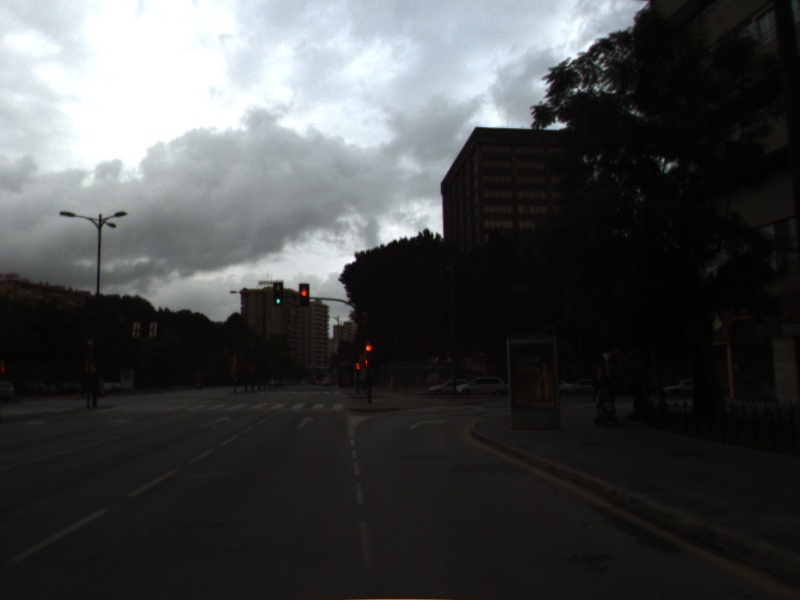RIGHT: (405, 416, 451, 433)
STRAIGHT: (198, 413, 234, 431), (294, 414, 317, 430)
